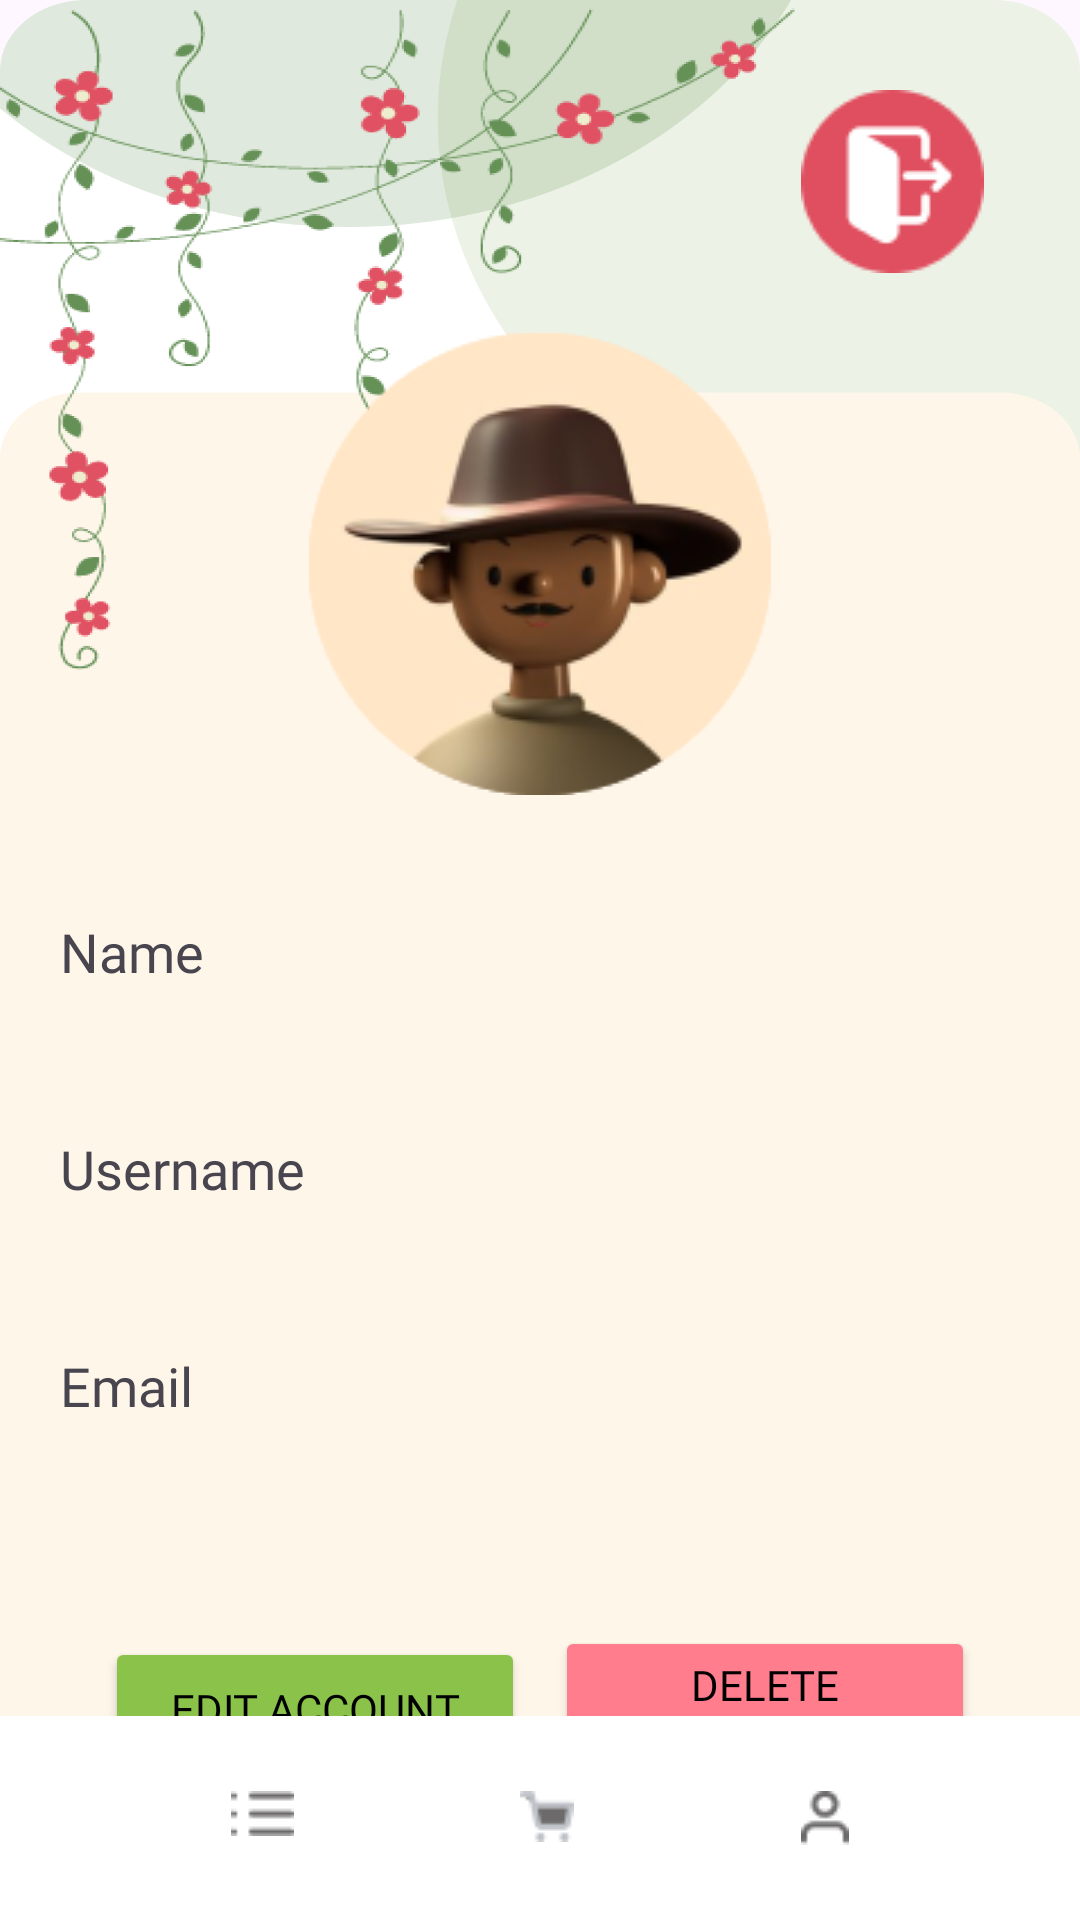

Screen size 1080 x 1920. Icon name, then its box in pixels as {"x1": x1, "y1": y1, "x2": x2, "y2": y2}:
iconcart: {"x1": 520, "y1": 1791, "x2": 574, "y2": 1842}
iconuser: {"x1": 801, "y1": 1791, "x2": 849, "y2": 1845}
